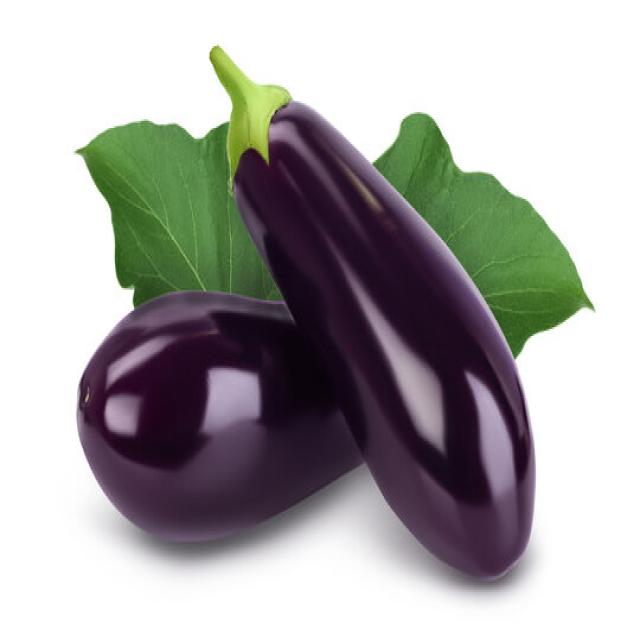Eggplant: (207, 43, 537, 581), (75, 286, 364, 544)
